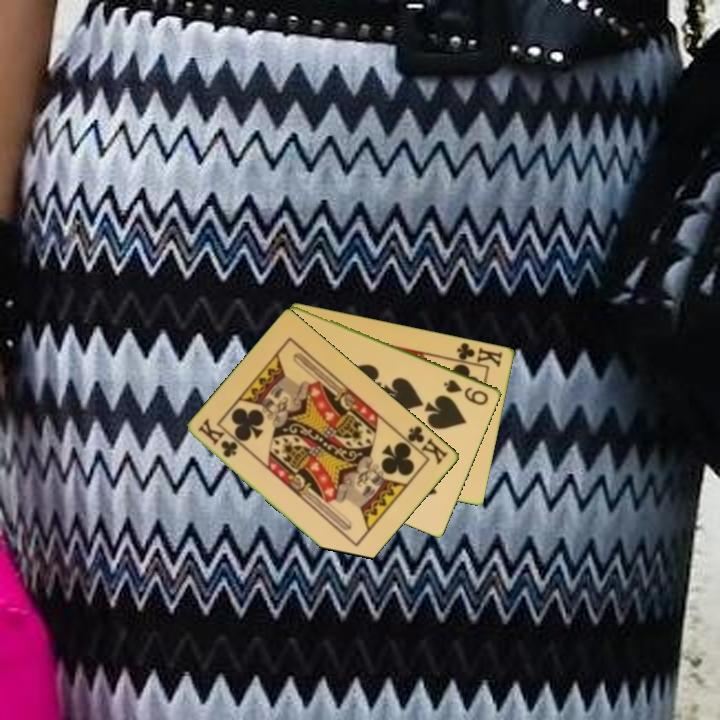9s: (440, 376, 492, 408)
Kc: (398, 422, 451, 468), (195, 416, 241, 461), (450, 339, 506, 370)
